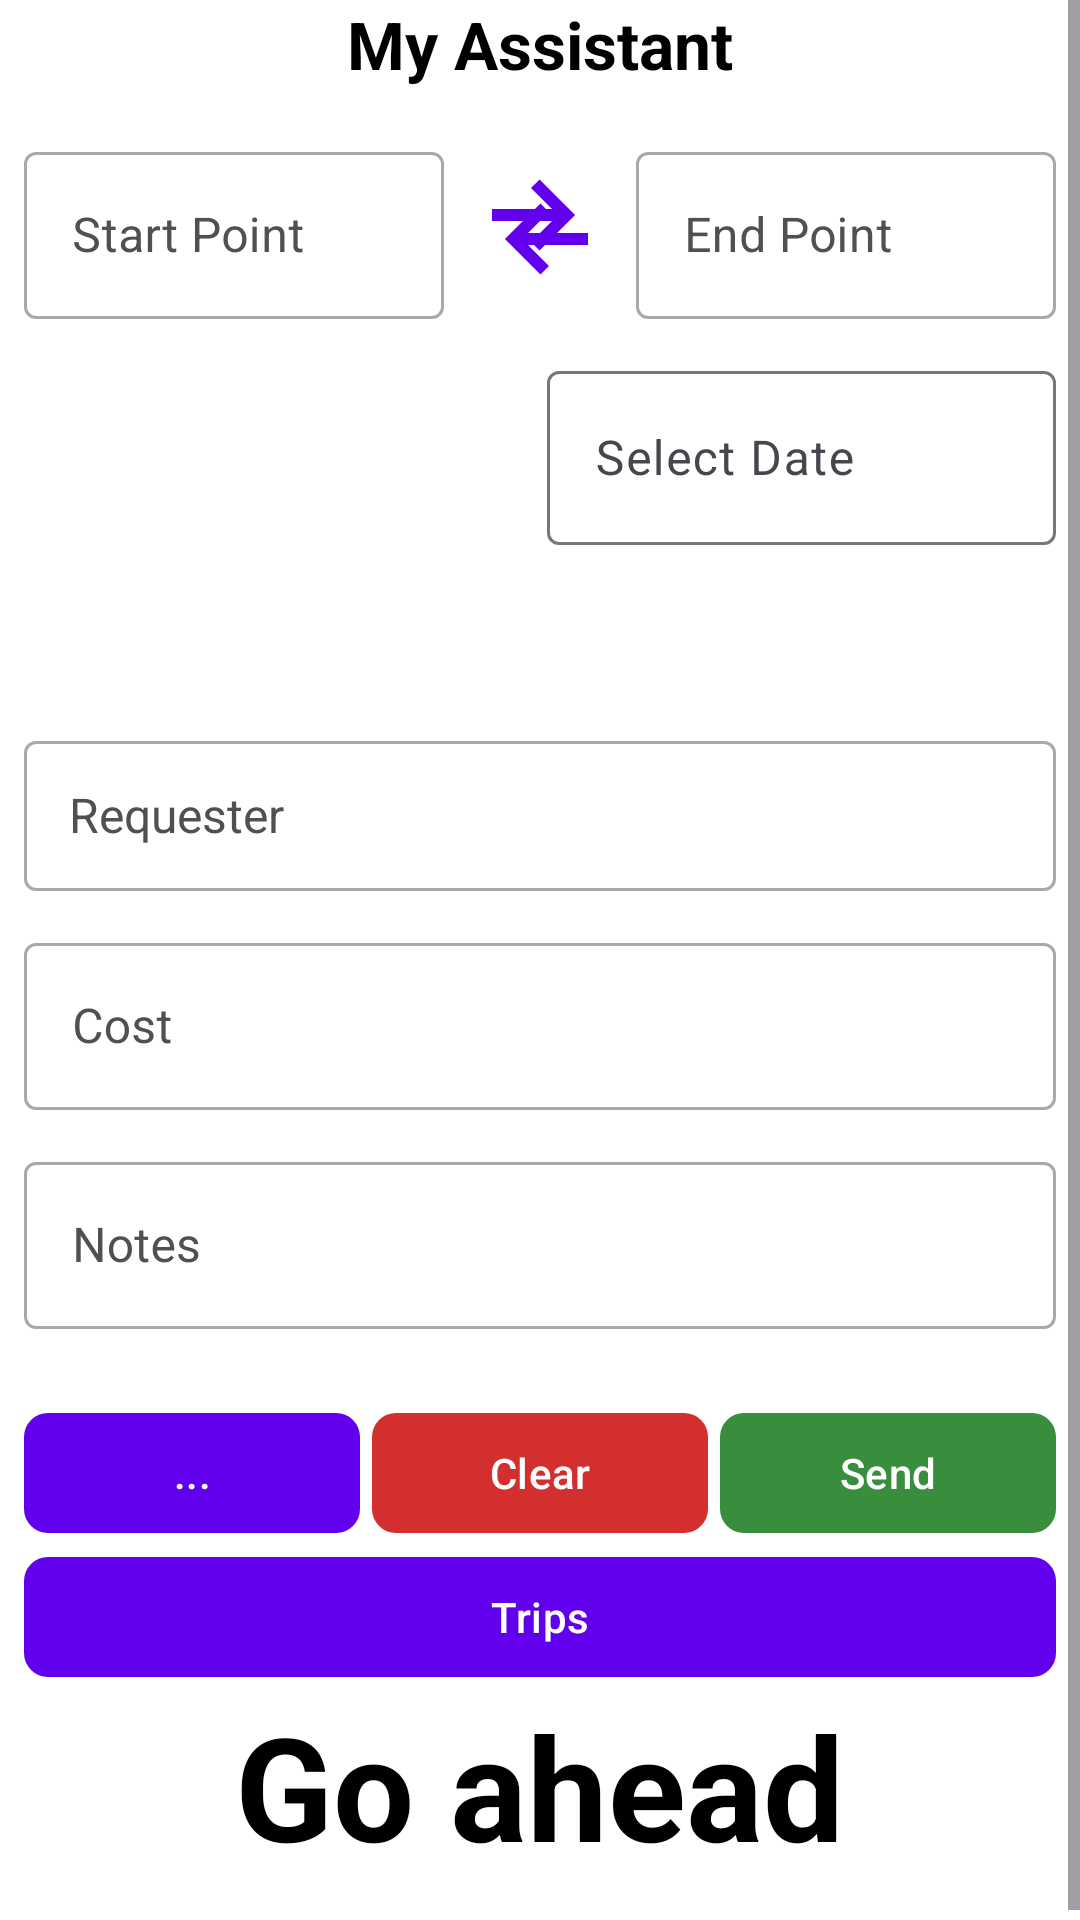

Icons on this 1080 × 1920 Android screen, each with its box as (x1, y1, x2, y2):
Swap: (492, 179, 588, 275)
